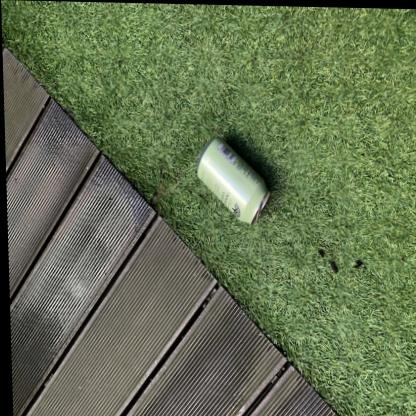trash: (197, 139, 269, 223)
